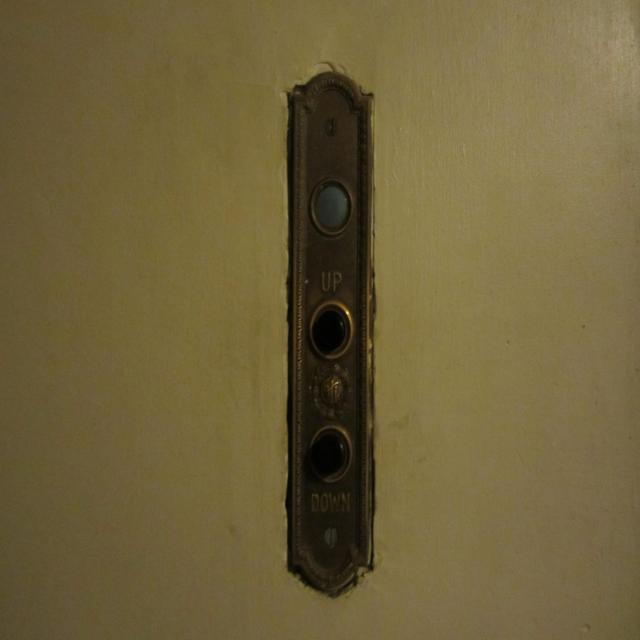empty: (305, 296, 355, 362), (308, 175, 355, 241), (306, 424, 354, 486)
